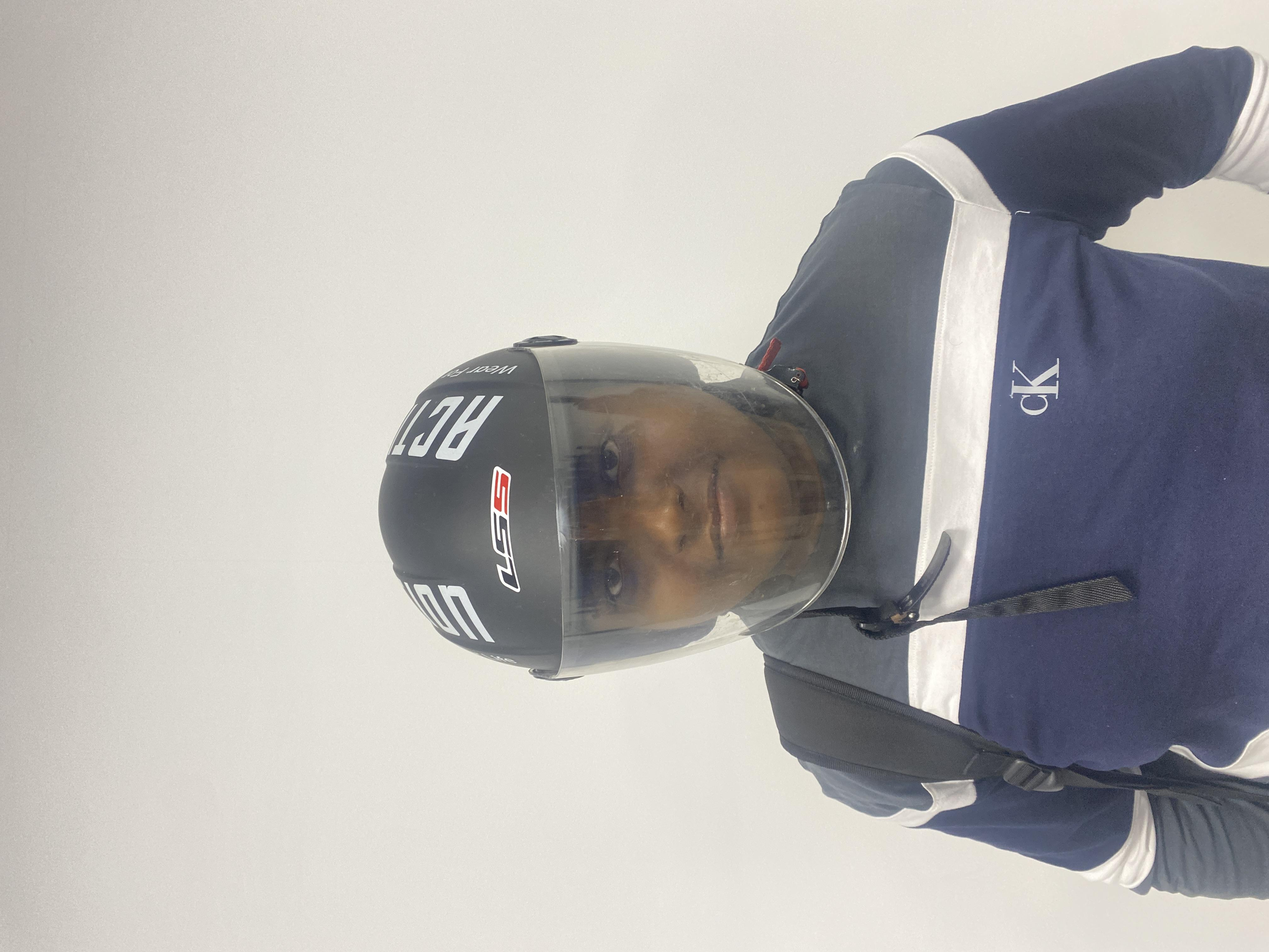helmet: (366, 284, 831, 642)
